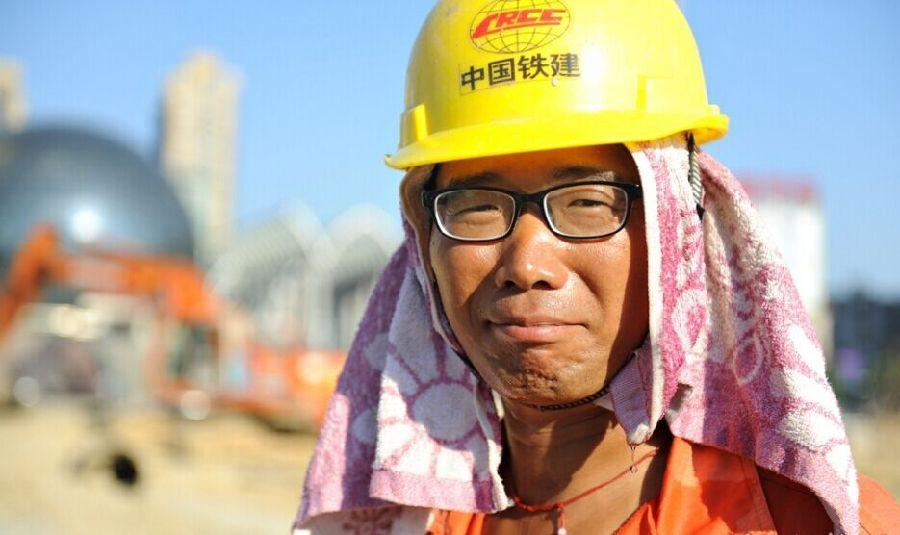helmet: (375, 1, 726, 167)
